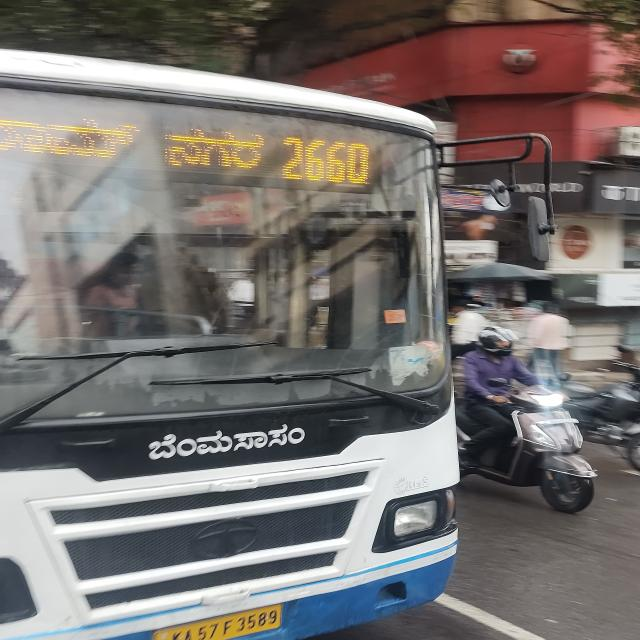bus: (0, 30, 463, 640)
display: (0, 84, 393, 203)
dnumber: (275, 130, 374, 190)
